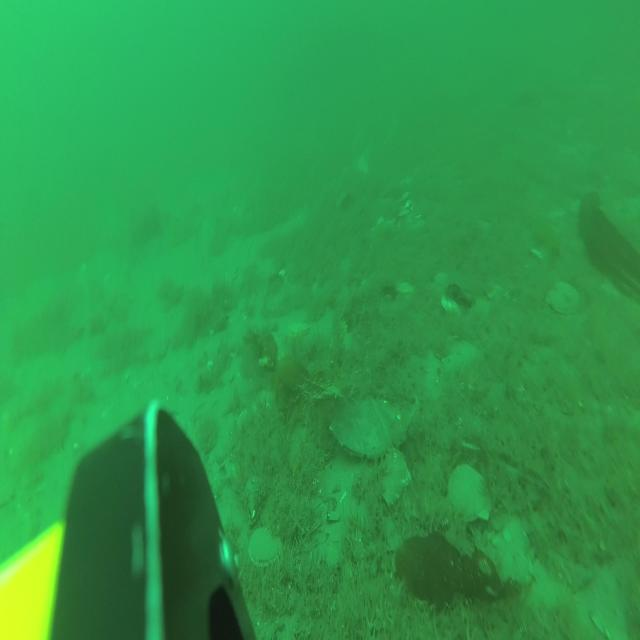scallop: (448, 461, 490, 522), (379, 447, 409, 505), (248, 526, 280, 568), (546, 278, 578, 316), (440, 292, 461, 318)
